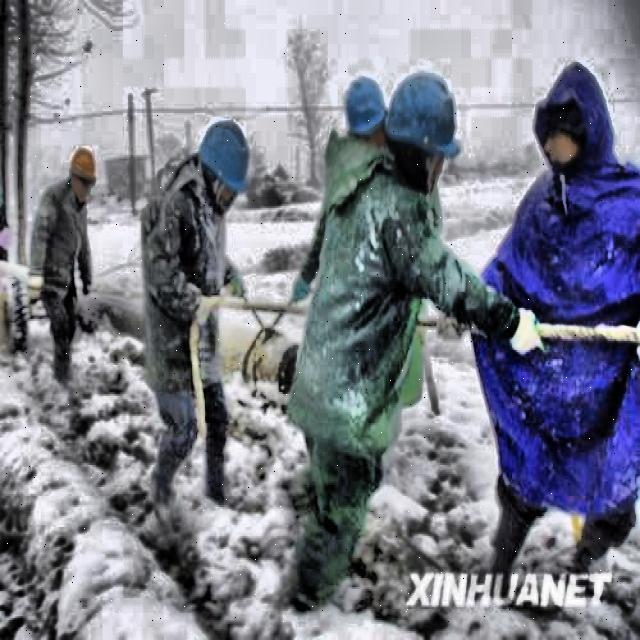helmet: (387, 64, 462, 199), (193, 110, 256, 224), (342, 71, 389, 153), (67, 142, 101, 204)
